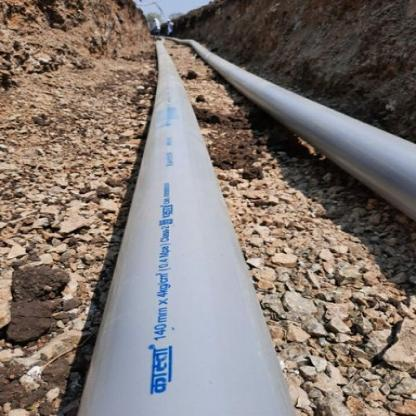PVC: (80, 43, 297, 415), (169, 37, 415, 219)
